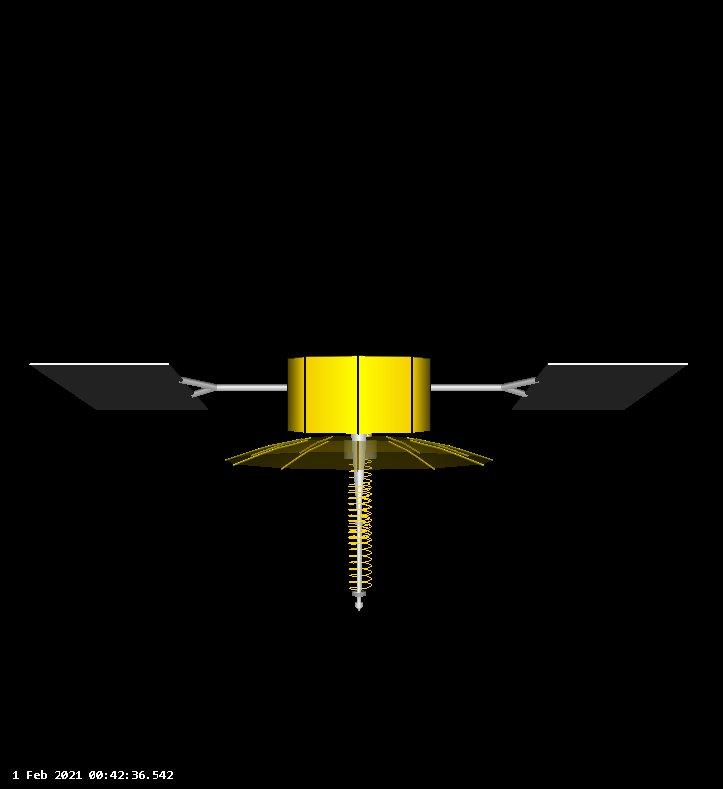antenna: (222, 437, 497, 615)
body: (284, 355, 433, 436)
solar: (25, 358, 217, 414), (508, 358, 692, 414)
